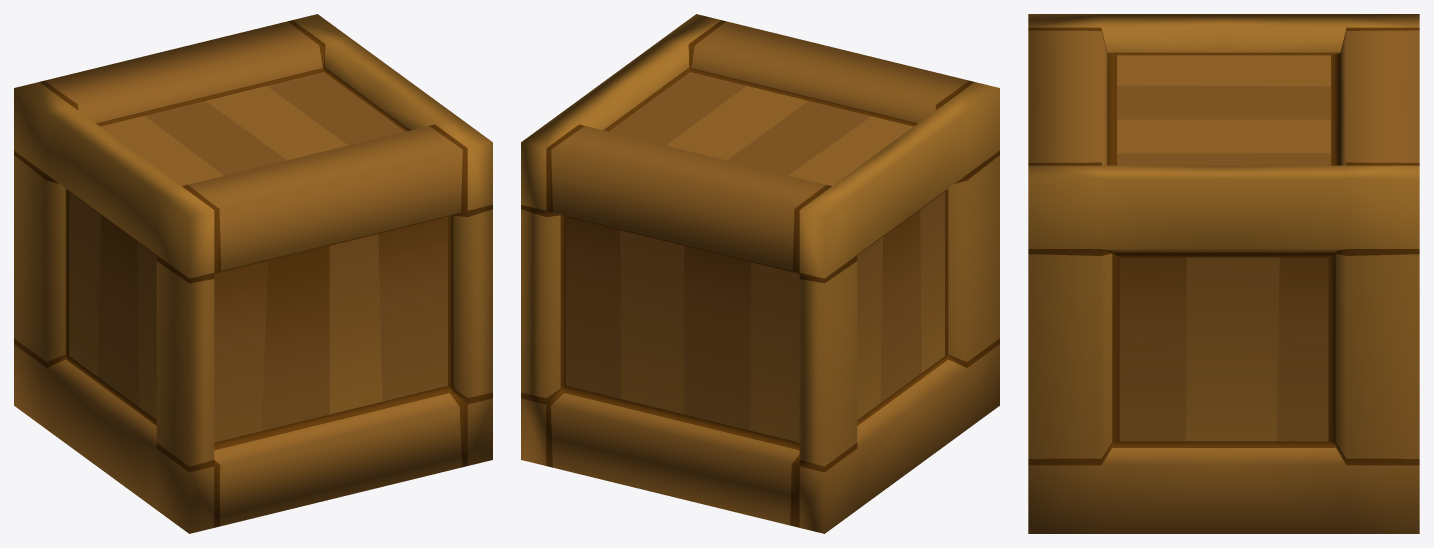
The model's file is crate.fbx.
3 views of the same model, side by side, from view 1: azimuth 30°, elevation 25°; view 2: azimuth 150°, elevation 25°; view 3: azimuth 270°, elevation 25° (orthographic). The views are drawn at different scales.
Parts seen in each view (by area): view 1: crate; view 2: crate; view 3: crate.
Boxes of the visible parts, bbox=[...] form: crate: bbox=[14, 14, 492, 533]; crate: bbox=[521, 14, 999, 533]; crate: bbox=[1028, 14, 1419, 533].
Bounding box in the file's own units: 100 × 100 × 100.
